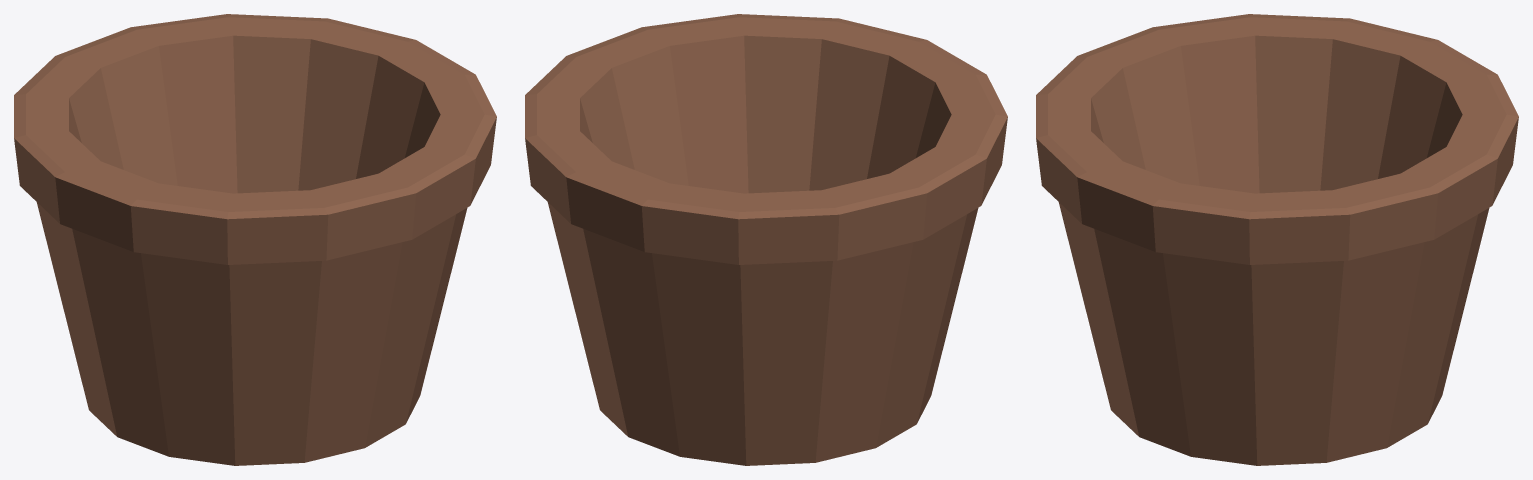
The model's file is Pot_3_pot.fbx.
3 renders of one model, left to right at view 1: azimuth 30°, elevation 25°; view 2: azimuth 150°, elevation 25°; view 3: azimuth 270°, elevation 25°, orthographic.
Visible parts, largest first — view 1: Cylinder; view 2: Cylinder; view 3: Cylinder.
Part boxes in pixels (x1,y1,x2,y2): Cylinder: (14, 14, 496, 465); Cylinder: (525, 14, 1007, 465); Cylinder: (1036, 14, 1518, 465).
Bounding box in the file's own units: 96.25 × 61.44 × 95.72.
